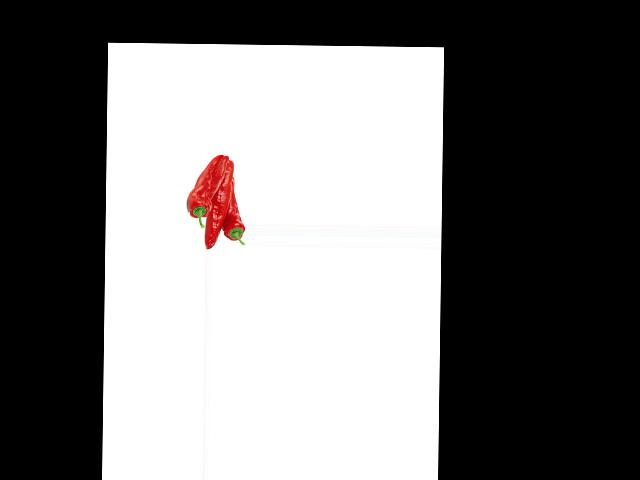bell_pepper: (184, 153, 220, 230)
